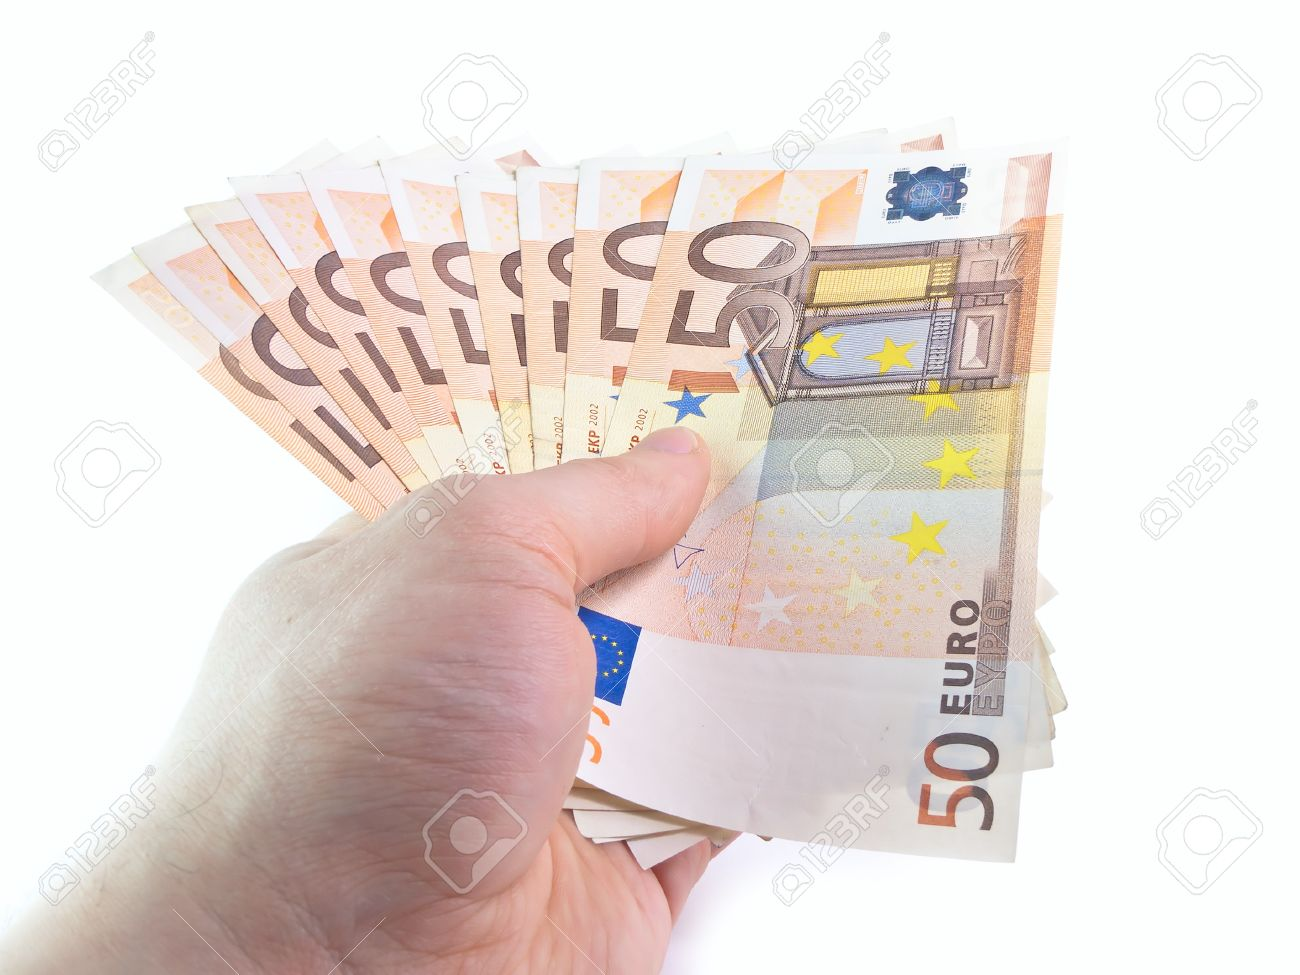billete: (85, 108, 1074, 872)
